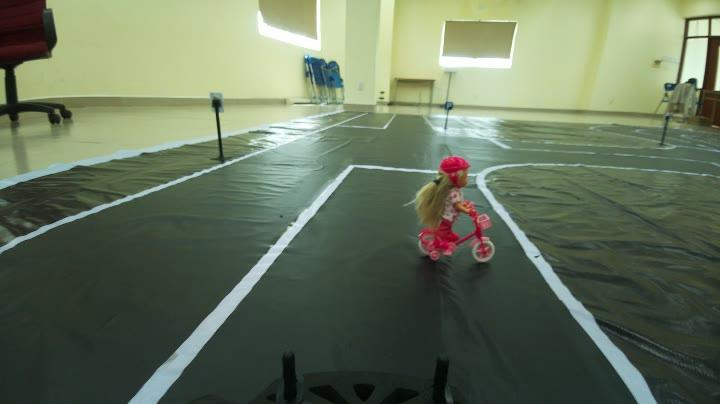pedestrian: (410, 155, 498, 258)
